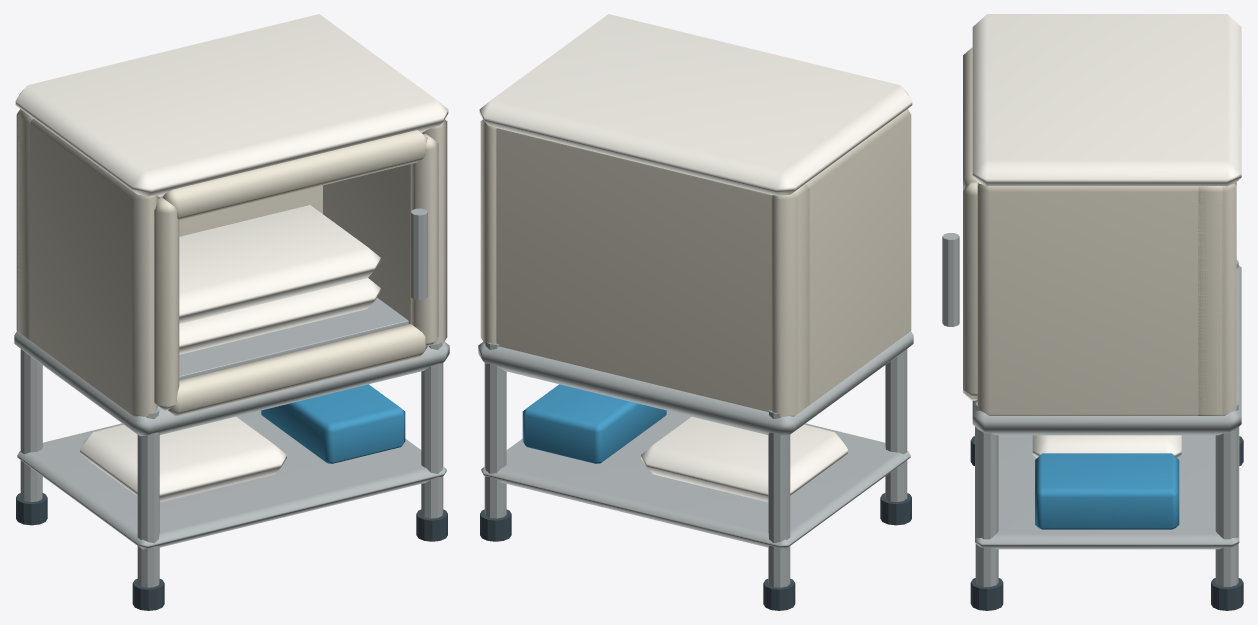
The model's file is ThermaNest_starter.glb.
3 renders of one model, left to right at view 1: azimuth 30°, elevation 25°; view 2: azimuth 150°, elevation 25°; view 3: azimuth 270°, elevation 25°, orthographic. The views are drawn at different scales.
Visible parts, largest first — view 1: Static_white, Static_ivory, Static_steel, Warmer_door, Static_blue, Static_dark; view 2: Static_ivory, Static_white, Static_steel, Static_blue, Static_dark; view 3: Static_ivory, Static_white, Static_steel, Static_blue, Warmer_door, Static_dark.
Boxes of the visible parts, x1,y1,x2,y2 form: Static_white: [15, 14, 448, 502]; Static_ivory: [16, 109, 447, 416]; Static_steel: [14, 297, 449, 587]; Warmer_door: [154, 130, 438, 416]; Static_blue: [261, 384, 405, 463]; Static_dark: [16, 493, 447, 610]; Static_ivory: [480, 109, 911, 416]; Static_white: [479, 14, 912, 502]; Static_steel: [478, 331, 913, 587]; Static_blue: [522, 384, 666, 463]; Static_dark: [480, 493, 911, 610]; Static_ivory: [977, 182, 1236, 415]; Static_white: [972, 14, 1241, 457]; Static_steel: [972, 259, 1241, 586]; Static_blue: [1035, 453, 1179, 529]; Warmer_door: [942, 47, 977, 400]; Static_dark: [970, 436, 1243, 610].
Size of the model in its own units: 0.78 by 1.03 by 0.627.
